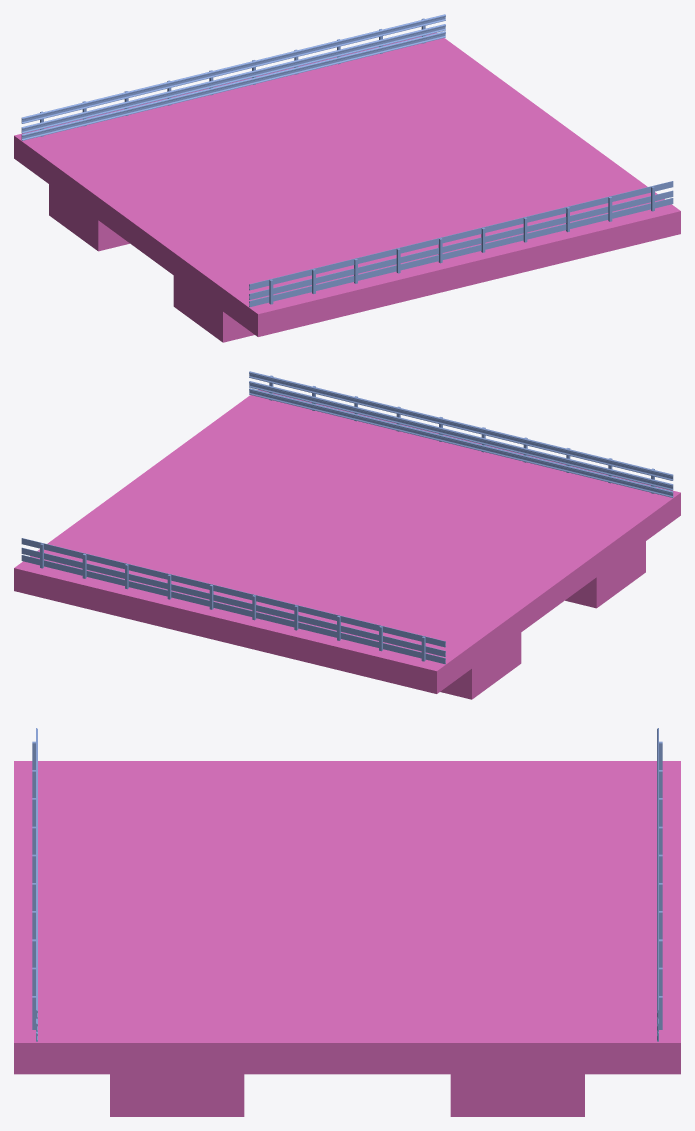
The model's file is RoadRecht.fbx.
3 renders of one model, top to bottom at view 1: azimuth 30°, elevation 25°; view 2: azimuth 150°, elevation 25°; view 3: azimuth 270°, elevation 25°, orthographic. The views are drawn at different scales.
Visible parts, largest first — view 1: RoadRecht, RailingRecht; view 2: RoadRecht, RailingRecht; view 3: RoadRecht, RailingRecht.
Boxes of the visible parts, x1,y1,x2,y2 form: RoadRecht: [14, 32, 680, 342]; RailingRecht: [21, 14, 673, 307]; RoadRecht: [14, 389, 680, 699]; RailingRecht: [21, 371, 673, 664]; RoadRecht: [14, 761, 680, 1116]; RailingRecht: [32, 728, 662, 1041].
Bounding box in the file's own units: 2004 × 353 × 2000.
